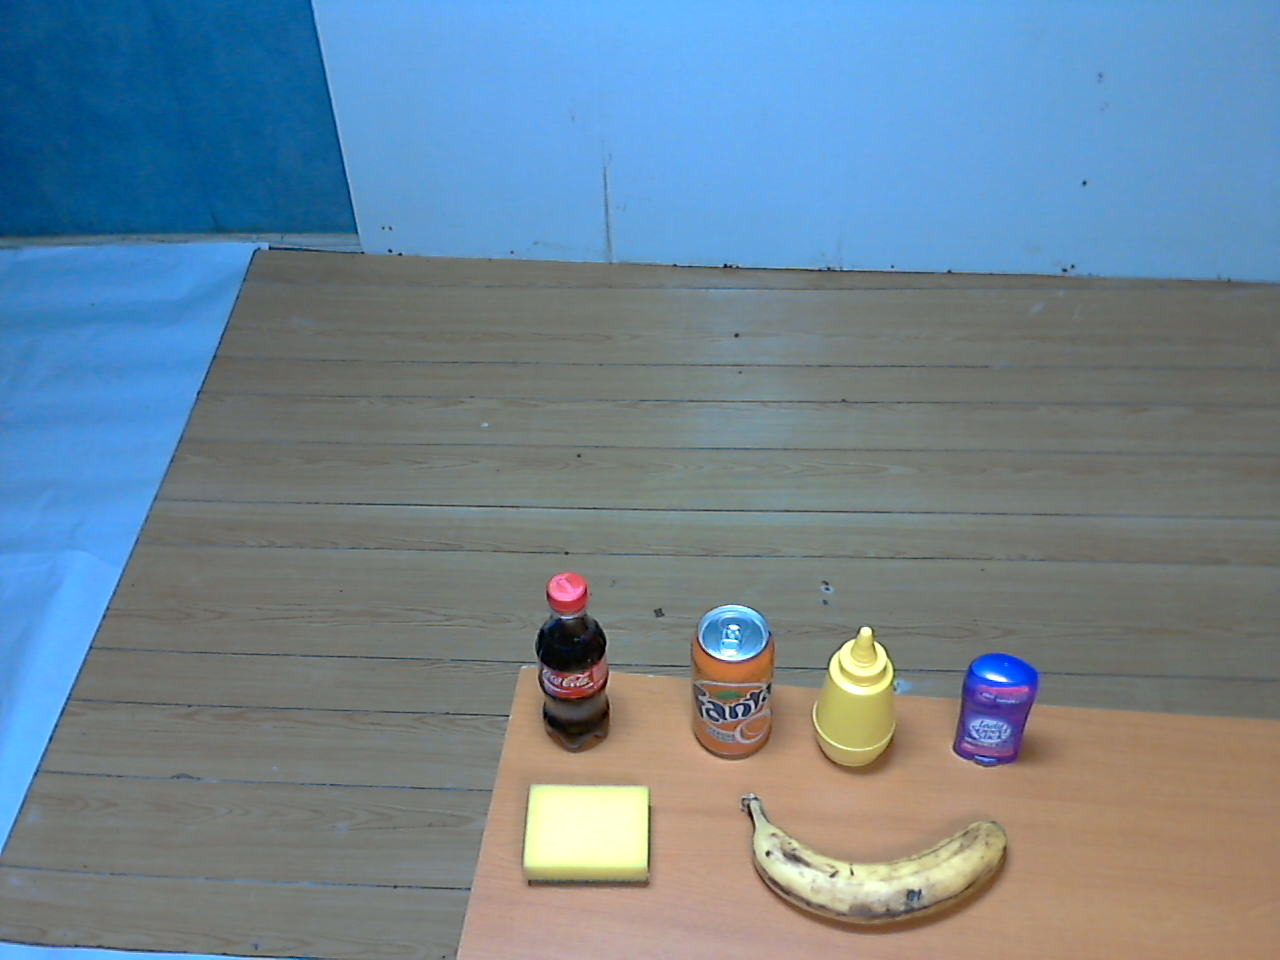coca: (524, 567, 623, 759)
desodorante: (945, 645, 1046, 784)
esponja: (511, 776, 661, 898)
lata: (677, 594, 785, 770)
mostaza: (807, 616, 905, 781)
platano: (729, 788, 1016, 945)
